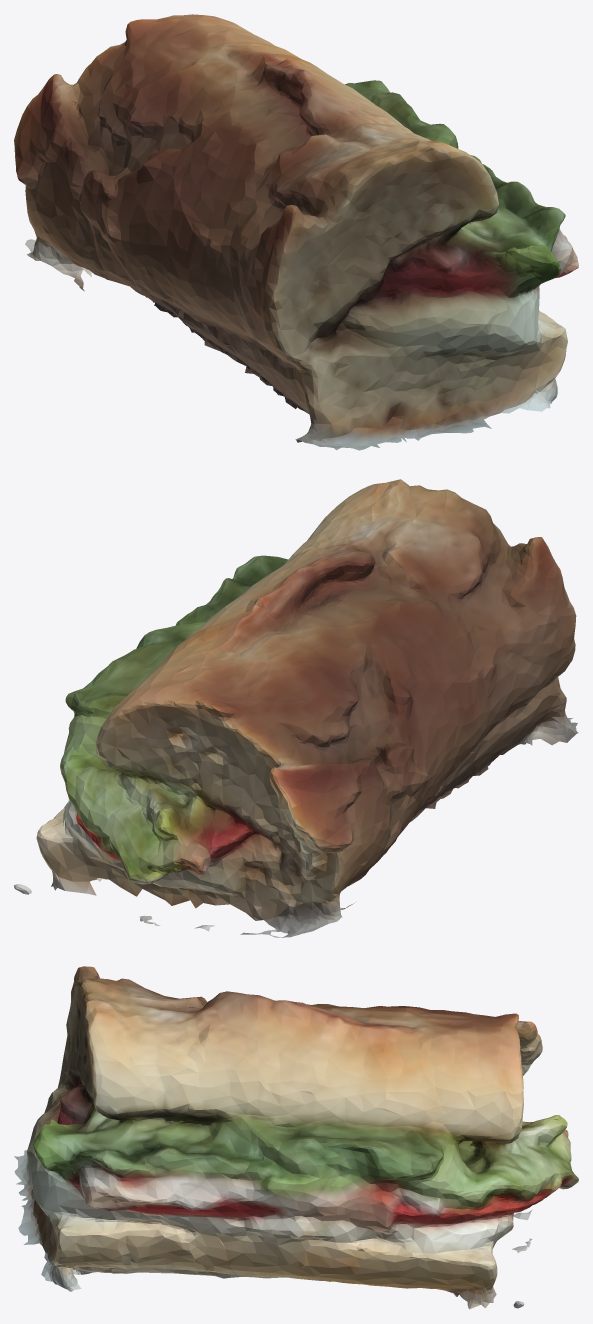
File: sandwich.obj
The picture shows the model from 3 angles, top to bottom: view 1: azimuth 30°, elevation 25°; view 2: azimuth 150°, elevation 25°; view 3: azimuth 270°, elevation 25°; orthographic projection. The views are drawn at different scales.
Visible parts, largest first — view 1: sandw1; view 2: sandw1; view 3: sandw1.
Part boxes in pixels (x1,y1,x2,y2): sandw1: [14, 14, 578, 450]; sandw1: [14, 479, 578, 937]; sandw1: [14, 966, 578, 1309].
Bounding box in the file's own units: 0.0958 × 0.0766 × 0.1568.
